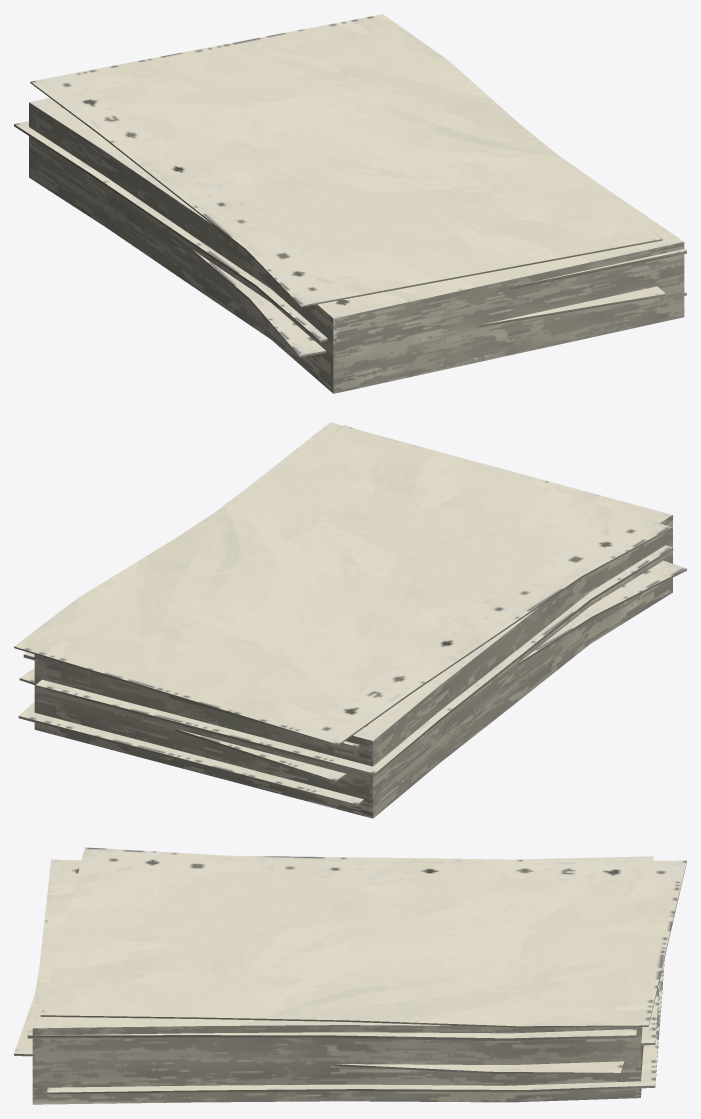
The model's file is stackOfPapers.fbx.
3 views of the same model, one above another, from view 1: azimuth 30°, elevation 25°; view 2: azimuth 150°, elevation 25°; view 3: azimuth 270°, elevation 25° (orthographic). The views are drawn at different scales.
Parts seen in each view (by area): view 1: paperToSlide, staticStackOfPaper; view 2: paperToSlide, staticStackOfPaper; view 3: paperToSlide, staticStackOfPaper.
Boxes of the visible parts, <box> form: paperToSlide: <box>30,14,662,307</box>; staticStackOfPaper: <box>14,97,686,393</box>; paperToSlide: <box>14,425,671,745</box>; staticStackOfPaper: <box>18,422,686,818</box>; paperToSlide: <box>40,847,686,1027</box>; staticStackOfPaper: <box>14,856,664,1104</box>.
Bounding box in the file's own units: 1.99 × 0.4009 × 3.03.
